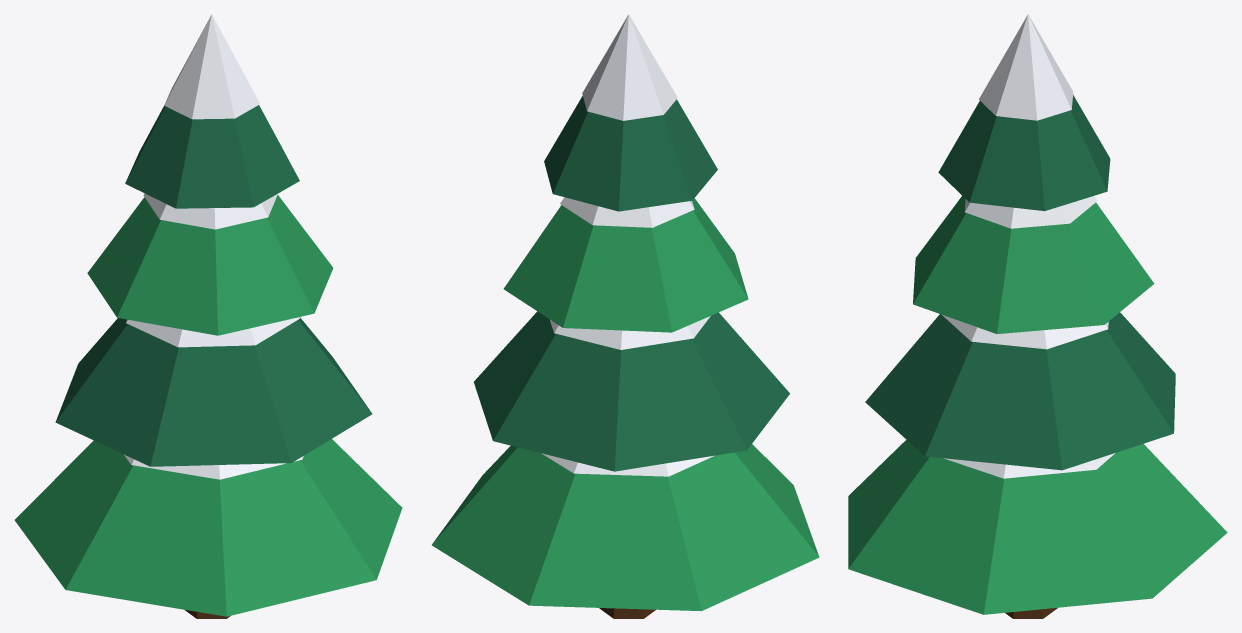
Rendered from PineTree.fbx.
3 views of the same model, side by side, from view 1: azimuth 30°, elevation 25°; view 2: azimuth 150°, elevation 25°; view 3: azimuth 270°, elevation 25° (orthographic).
Parts seen in each view (by area): view 1: PineTree_Green, PineTree_GreenDark, PineTree_Snow; view 2: PineTree_Green, PineTree_GreenDark, PineTree_Snow; view 3: PineTree_Green, PineTree_GreenDark, PineTree_Snow.
Part boxes in pixels (left/top/right/bottom): PineTree_Green: left=14, top=195, right=402, bottom=616; PineTree_GreenDark: left=55, top=105, right=372, bottom=466; PineTree_Snow: left=124, top=14, right=303, bottom=479; PineTree_Green: left=432, top=198, right=819, bottom=611; PineTree_GreenDark: left=474, top=96, right=789, bottom=471; PineTree_Snow: left=541, top=14, right=714, bottom=476; PineTree_Green: left=848, top=196, right=1227, bottom=614; PineTree_GreenDark: left=865, top=95, right=1175, bottom=470; PineTree_Snow: left=942, top=14, right=1114, bottom=478.
Bounding box in the file's own units: 1170 × 1970 × 1141.
